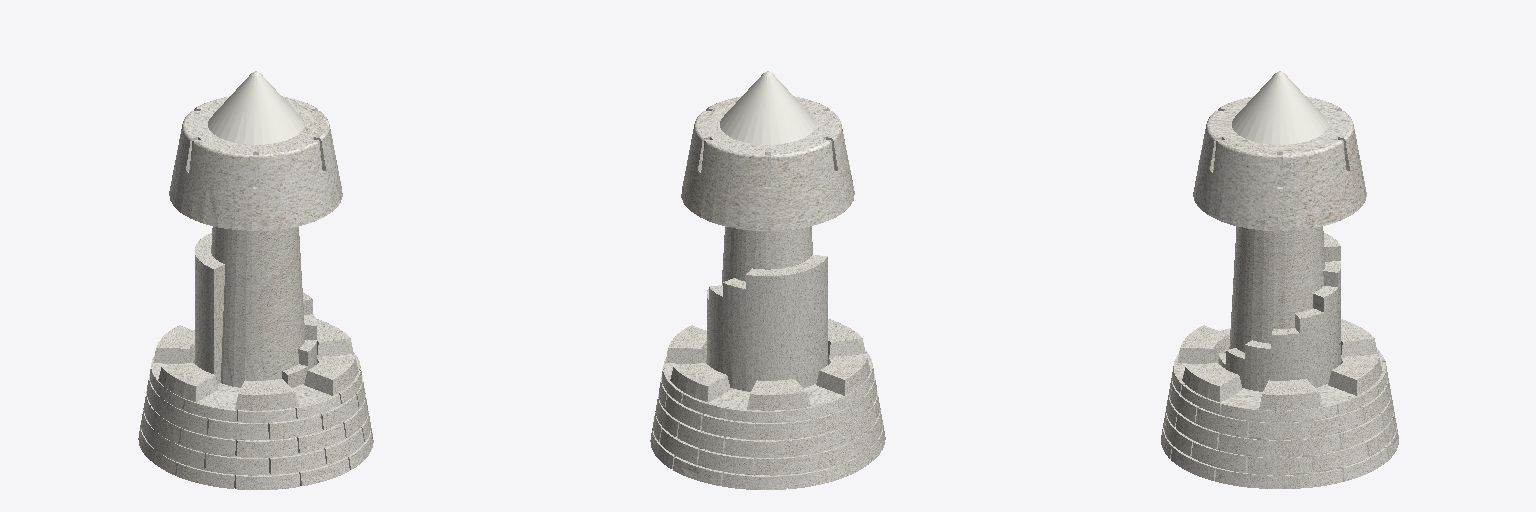
3 views of the same model, side by side, from view 1: azimuth 30°, elevation 25°; view 2: azimuth 150°, elevation 25°; view 3: azimuth 270°, elevation 25° (orthographic).
Visible parts, largest first — view 1: object_2, object_11, object_1, object_3, object_75, object_12, object_16, object_17, object_15, object_60, object_71, object_48 (+15 smaller); view 2: object_2, object_3, object_1, object_11, object_4, object_75, object_15, object_14, object_16, object_13, object_5, object_57 (+18 smaller); view 3: object_2, object_11, object_1, object_75, object_6, object_13, object_17, object_14, object_7, object_12, object_5, object_8 (+17 smaller).
Boxes of the visible parts, <box> form: object_2: <box>169,96,342,230</box>; object_11: <box>211,226,304,387</box>; object_1: <box>208,71,303,144</box>; object_3: <box>195,233,224,383</box>; object_75: <box>146,354,358,475</box>; object_12: <box>235,379,298,410</box>; object_16: <box>158,363,218,402</box>; object_17: <box>304,356,358,395</box>; object_15: <box>153,325,194,363</box>; object_60: <box>204,453,268,474</box>; object_71: <box>235,437,297,456</box>; object_48: <box>207,418,268,439</box>; object_2: <box>681,96,854,230</box>; object_3: <box>746,255,827,391</box>; object_1: <box>720,71,815,144</box>; object_11: <box>722,226,812,284</box>; object_4: <box>723,278,745,390</box>; object_75: <box>665,354,877,475</box>; object_15: <box>747,379,810,410</box>; object_14: <box>670,363,730,402</box>; object_16: <box>816,356,870,395</box>; object_13: <box>665,325,706,363</box>; object_5: <box>709,285,722,372</box>; object_57: <box>755,453,819,474</box>; object_2: <box>1193,96,1366,230</box>; object_11: <box>1229,226,1324,352</box>; object_1: <box>1232,71,1327,144</box>; object_75: <box>1177,330,1382,475</box>; object_6: <box>1295,308,1323,387</box>; object_13: <box>1259,379,1322,410</box>; object_17: <box>1182,363,1242,402</box>; object_14: <box>1328,356,1382,395</box>; object_7: <box>1271,328,1299,380</box>; object_12: <box>1177,325,1229,363</box>; object_5: <box>1313,286,1337,384</box>; object_8: <box>1245,340,1270,391</box>.
Size of the model in its own units: 7.2 by 12.61 by 7.4.
Materials: 1 (1 with a texture image).